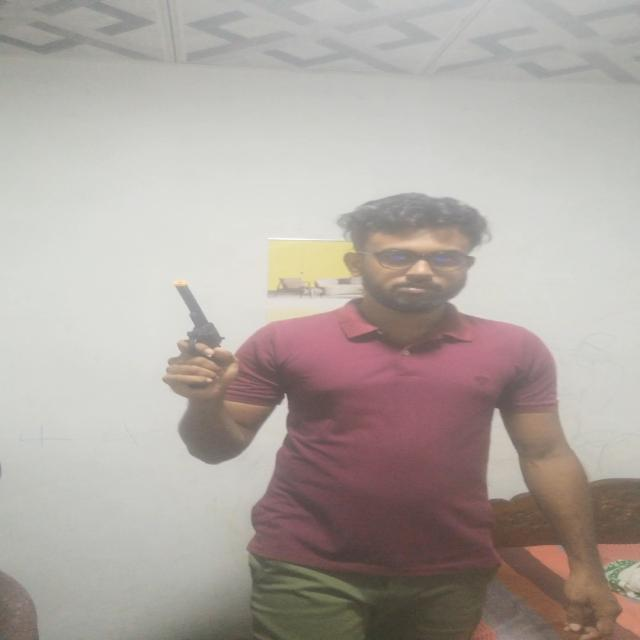Gun_Holder: (160, 286, 244, 382)
Person: (175, 185, 621, 640)
